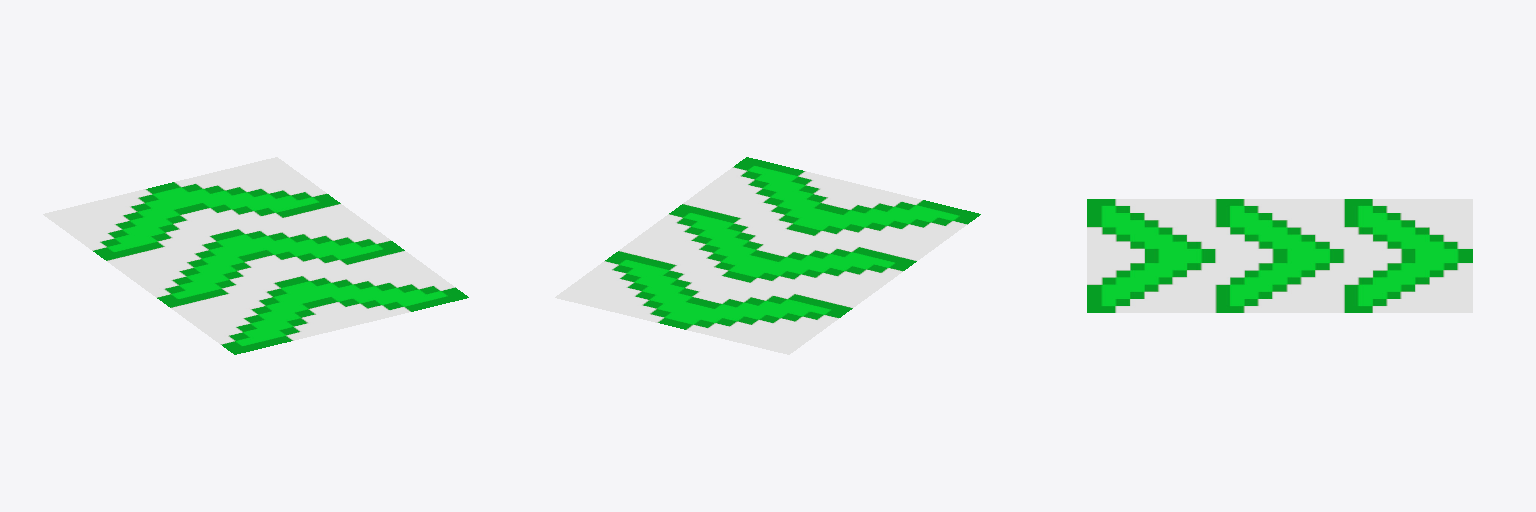
3 views of the same model, side by side, from view 1: azimuth 30°, elevation 25°; view 2: azimuth 150°, elevation 25°; view 3: azimuth 270°, elevation 25° (orthographic).
Visible parts, largest first — view 1: Plane001; view 2: Plane001; view 3: Plane001.
Boxes of the visible parts, box(x1,y1,x2,y2) form: Plane001: box(43, 157, 468, 354); Plane001: box(555, 157, 980, 354); Plane001: box(1087, 199, 1472, 312).
Size of the model in its own units: 37.13 by 0 by 52.69.
Materials: 1 (1 with a texture image).